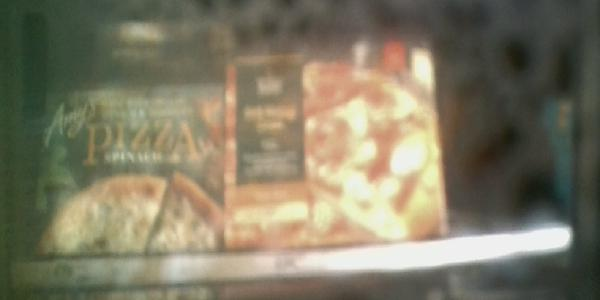pizza1: (220, 42, 452, 295), (38, 81, 220, 295)
